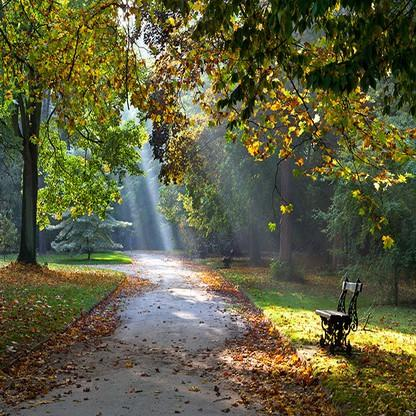obstacle: (296, 266, 366, 353)
